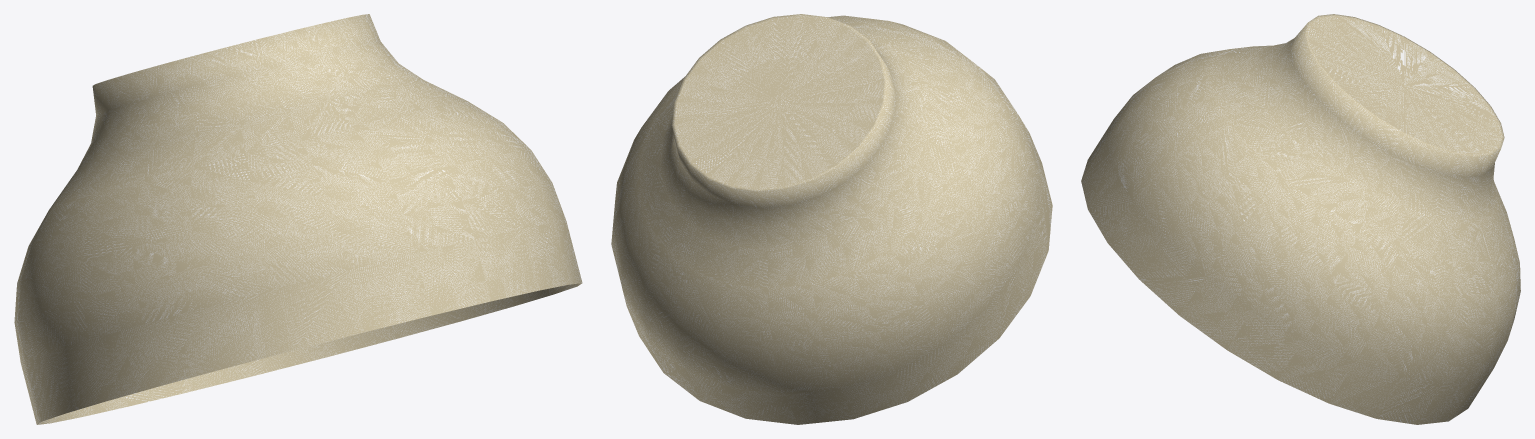
The model's file is original-33.obj.
The picture shows the model from 3 angles, left to right: view 1: azimuth 30°, elevation 25°; view 2: azimuth 150°, elevation 25°; view 3: azimuth 270°, elevation 25°; orthographic projection. The views are drawn at different scales.
Visible parts, largest first — view 1: inside_co0_1/inside_co0/mesh32/mesh32-geometry#mesh32-geometry; view 2: inside_co0_1/inside_co0/mesh32/mesh32-geometry#mesh32-geometry; view 3: inside_co0_1/inside_co0/mesh32/mesh32-geometry#mesh32-geometry.
Boxes of the visible parts, x1,y1,x2,y2 form: inside_co0_1/inside_co0/mesh32/mesh32-geometry#mesh32-geometry: [14, 14, 582, 424]; inside_co0_1/inside_co0/mesh32/mesh32-geometry#mesh32-geometry: [611, 14, 1052, 424]; inside_co0_1/inside_co0/mesh32/mesh32-geometry#mesh32-geometry: [1081, 14, 1520, 424].
Size of the model in its own units: 0.3904 by 0.3353 by 0.3774.
